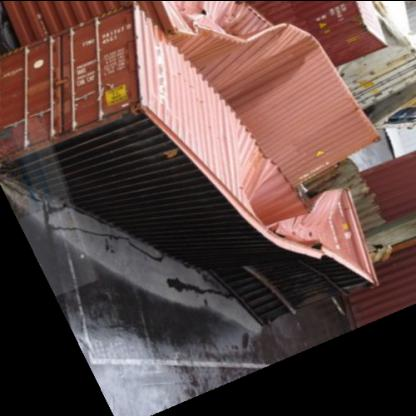Damage: (204, 170, 370, 284), (147, 0, 326, 76)
